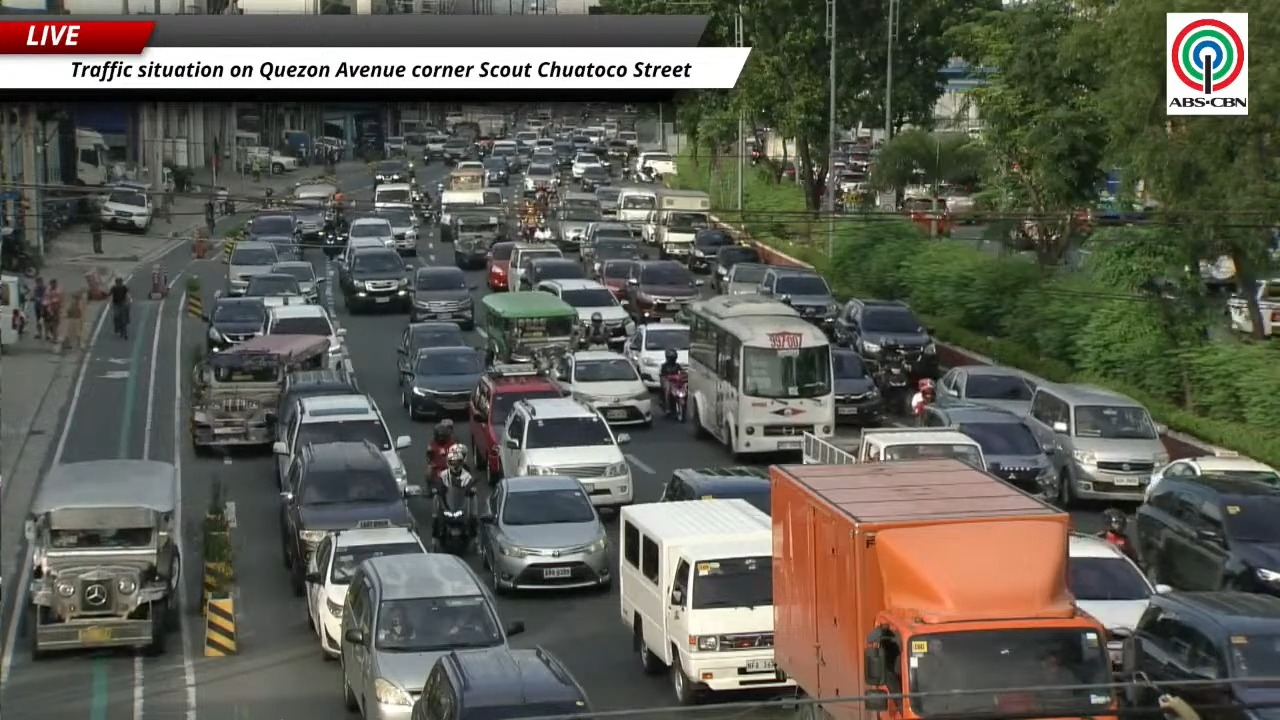bus: (683, 295, 834, 454)
car: (15, 459, 181, 660), (340, 553, 523, 719), (280, 440, 421, 596), (1122, 591, 1279, 718), (1025, 382, 1169, 506), (1134, 475, 1279, 594), (305, 524, 426, 657), (479, 476, 611, 591), (499, 397, 633, 507), (1068, 533, 1169, 664), (411, 647, 590, 719), (272, 393, 410, 486), (921, 404, 1057, 498), (469, 364, 563, 481), (835, 300, 938, 379), (556, 350, 652, 424), (534, 279, 633, 344), (1146, 450, 1279, 497), (401, 347, 483, 419), (275, 370, 359, 439), (659, 466, 770, 513), (265, 304, 345, 367), (936, 365, 1034, 415), (339, 248, 411, 313), (757, 266, 839, 323), (627, 260, 701, 322), (624, 323, 689, 388), (409, 266, 474, 329), (831, 348, 883, 425), (396, 321, 466, 377), (448, 206, 506, 270), (206, 296, 267, 351), (226, 241, 281, 295), (245, 209, 302, 259), (551, 193, 600, 250), (507, 242, 563, 290), (709, 244, 762, 293), (580, 221, 639, 263), (589, 238, 651, 277), (270, 260, 325, 302), (242, 272, 307, 307), (100, 188, 152, 231), (519, 257, 585, 289), (688, 228, 735, 271), (376, 208, 418, 255), (245, 209, 300, 244), (596, 259, 637, 300), (719, 261, 769, 294), (347, 216, 394, 248), (486, 241, 515, 290), (338, 237, 385, 265), (490, 142, 523, 176), (372, 159, 411, 186), (634, 151, 676, 175), (524, 163, 558, 191), (579, 165, 612, 191), (595, 185, 620, 219), (571, 152, 601, 179), (444, 137, 474, 164), (483, 156, 509, 186), (423, 133, 448, 164), (606, 138, 629, 164), (554, 142, 575, 170), (384, 136, 408, 156), (531, 146, 555, 164), (570, 133, 591, 153), (617, 131, 638, 150), (455, 161, 483, 169)
motorcycle: (432, 470, 476, 555), (873, 344, 912, 413), (0, 227, 38, 277), (427, 439, 464, 482), (1097, 529, 1138, 563), (664, 372, 687, 422), (321, 229, 343, 259), (112, 304, 129, 338), (638, 165, 659, 182), (750, 149, 760, 166)
truck: (770, 459, 1117, 719), (802, 427, 986, 468), (642, 189, 711, 259), (75, 127, 110, 186), (1253, 277, 1279, 337)
